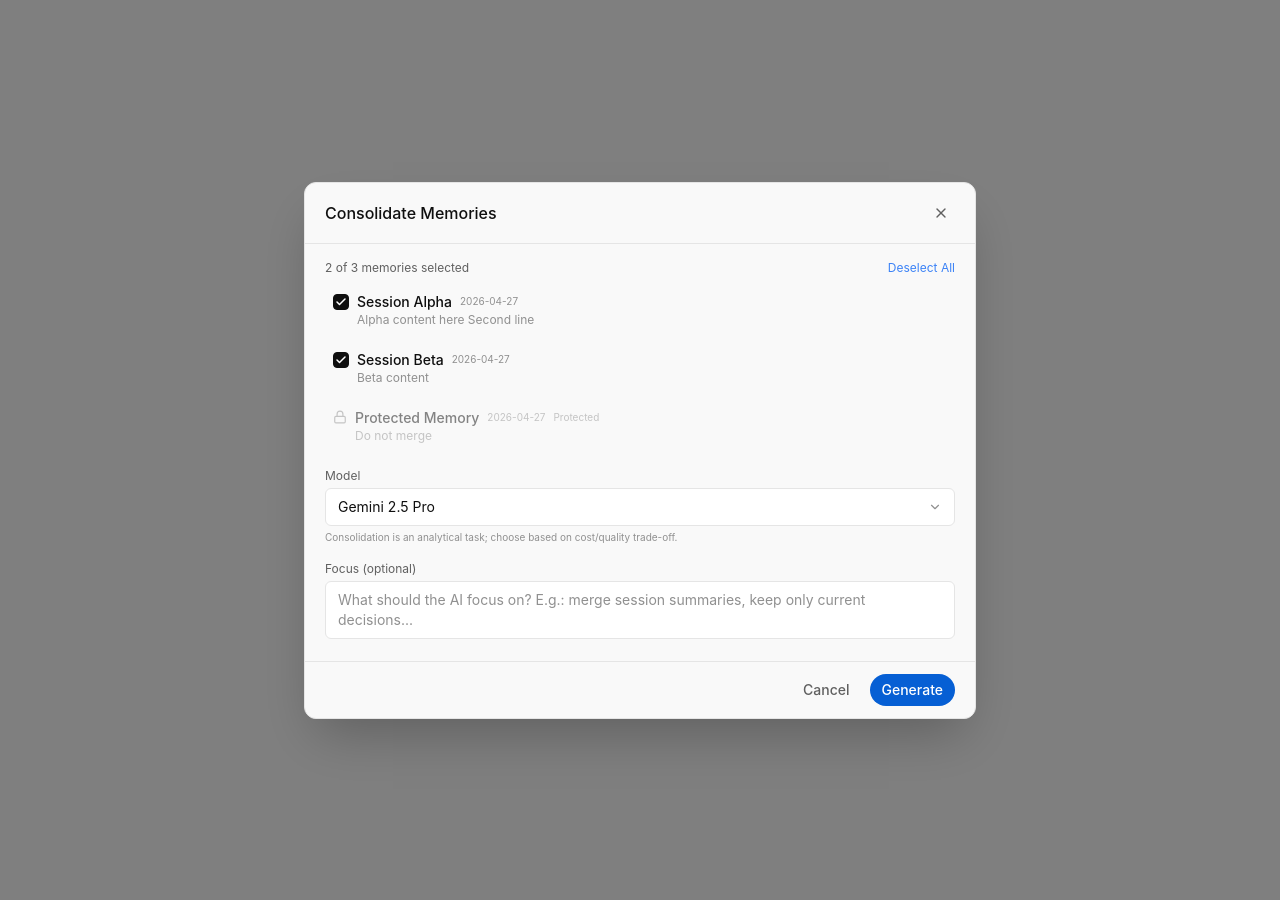
ConsolidationModal — Selection step › Select All / Deselect All toggles
Click the button "Deselect All". click: (921, 268)
box: [888,260,955,276]
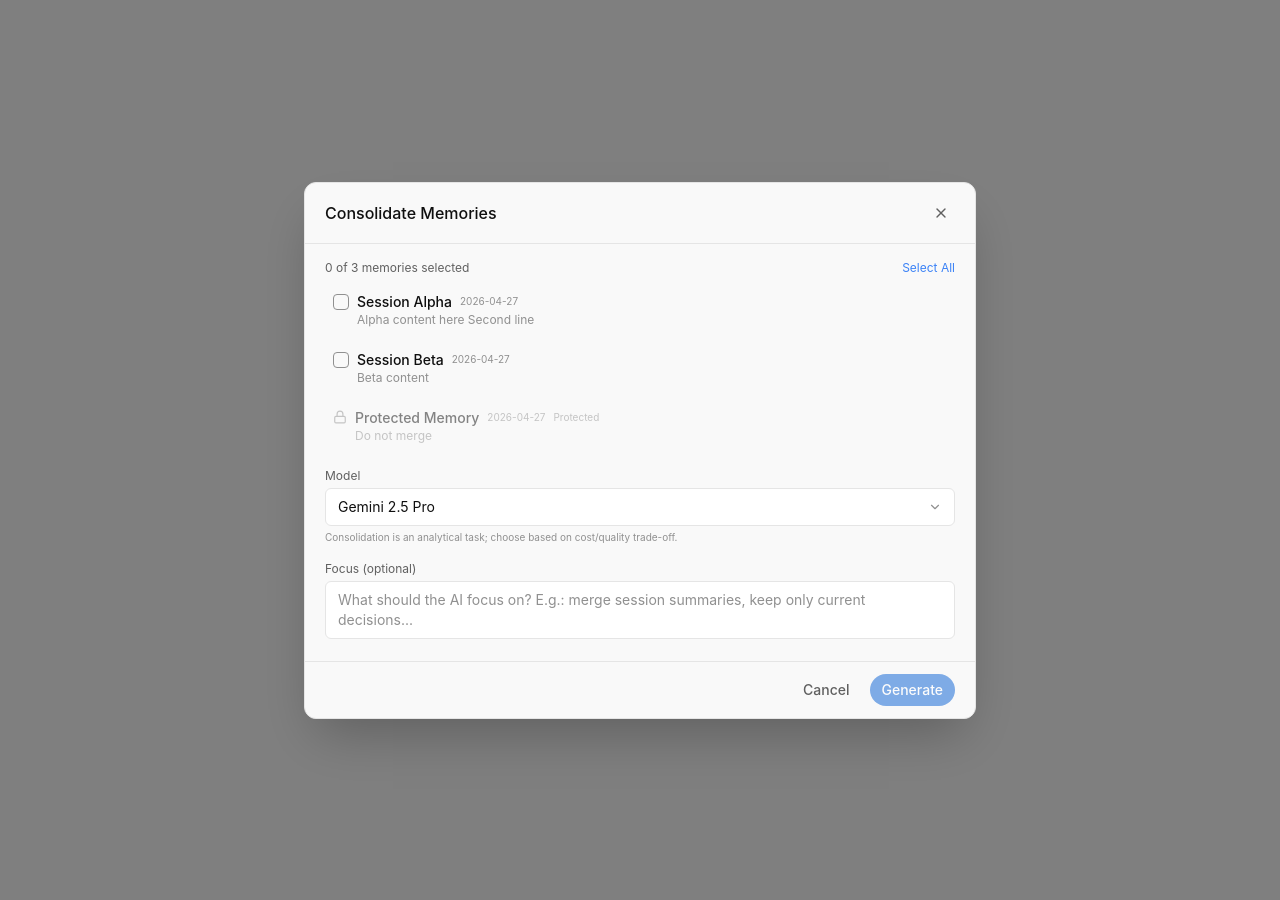
Expected: the text "0 of 3 memories selected" is shown, [325,260,470,276]
Click the button "Select All". click: (929, 268)
box: [902,260,955,276]
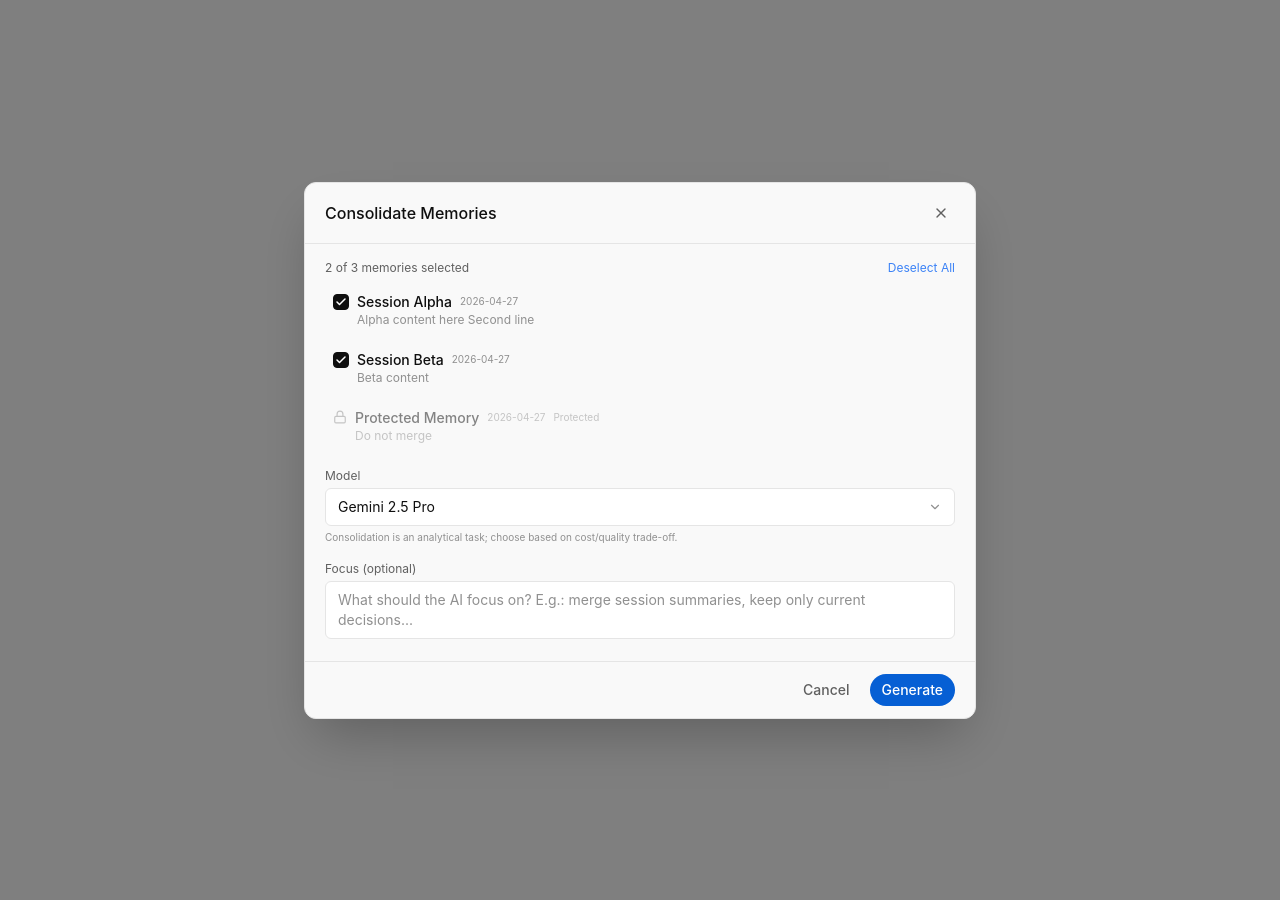
Expected: the text "2 of 3 memories selected" is shown, [325,260,469,276]
